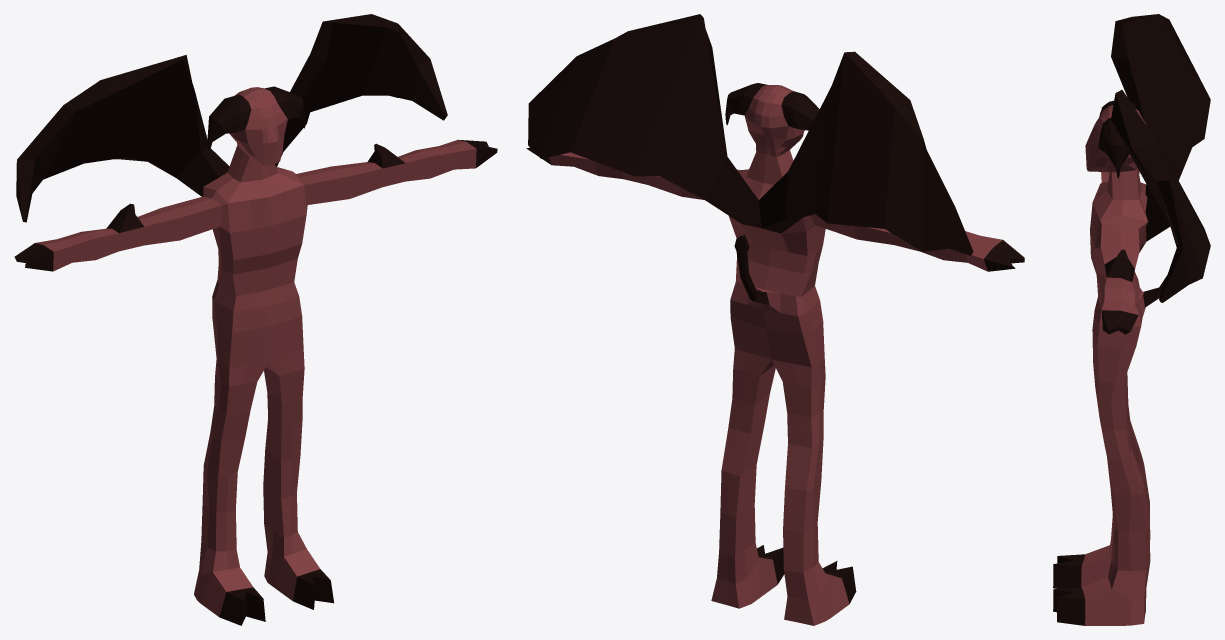
File: MODEL_Demon.fbx
3 renders of one model, left to right at view 1: azimuth 30°, elevation 25°; view 2: azimuth 150°, elevation 25°; view 3: azimuth 270°, elevation 25°, orthographic. The views are drawn at different scales.
Parts seen in each view (by area): view 1: Demon; view 2: Demon; view 3: Demon.
Part boxes in pixels (x1,y1,x2,y2): Demon: (14,14,497,625); Demon: (526,14,1024,625); Demon: (1053,14,1210,625).
Size of the model in its own units: 3446 by 3851 by 1013.
